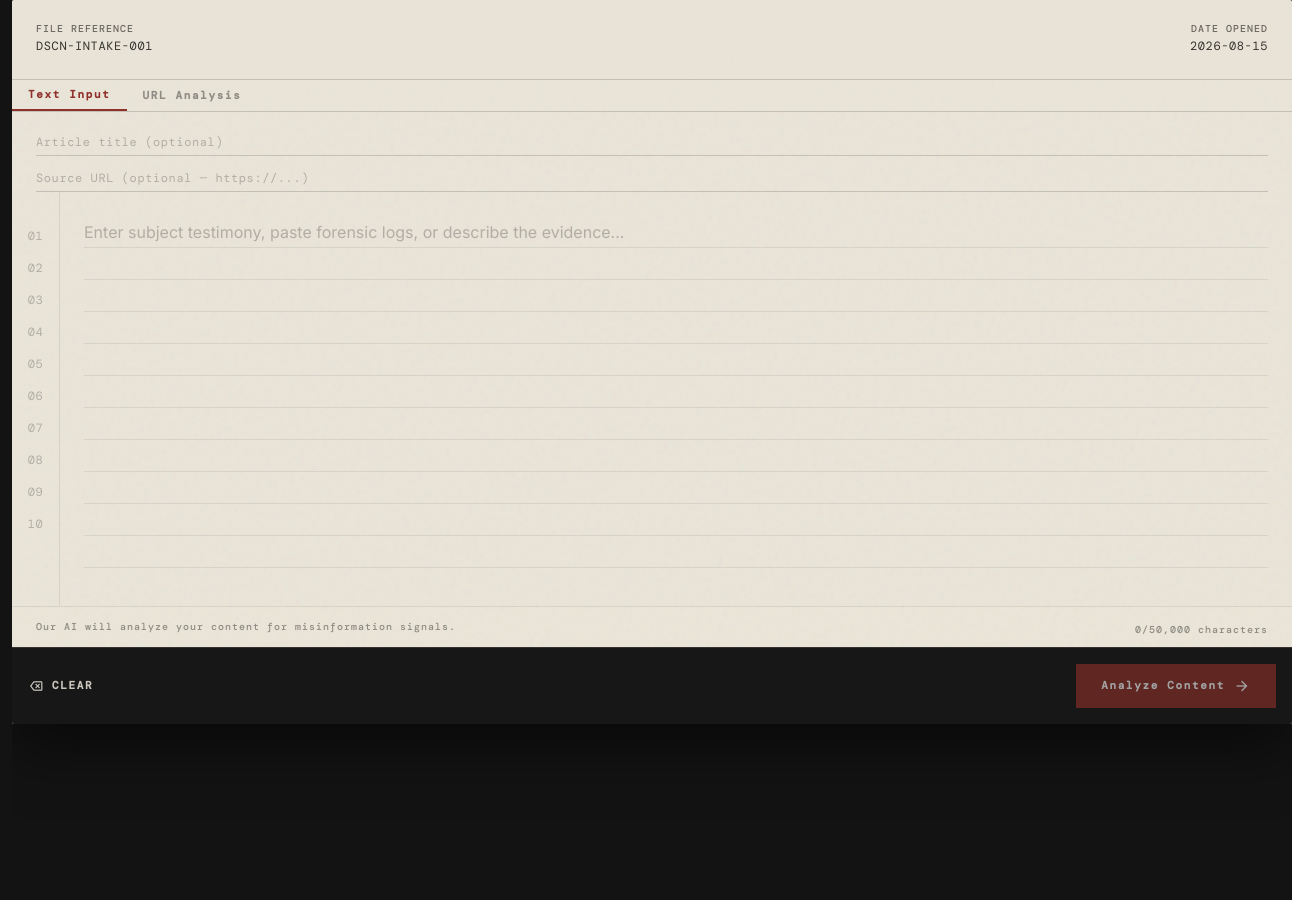
Test case: ArticleInput Component › Form Validation › accepts valid URL format
Type "https://example.com/article" into the field labelled "Source URL (optional — https://...)".
click(652, 179); type("https://example.com/article")  # box [36,166,1268,192]
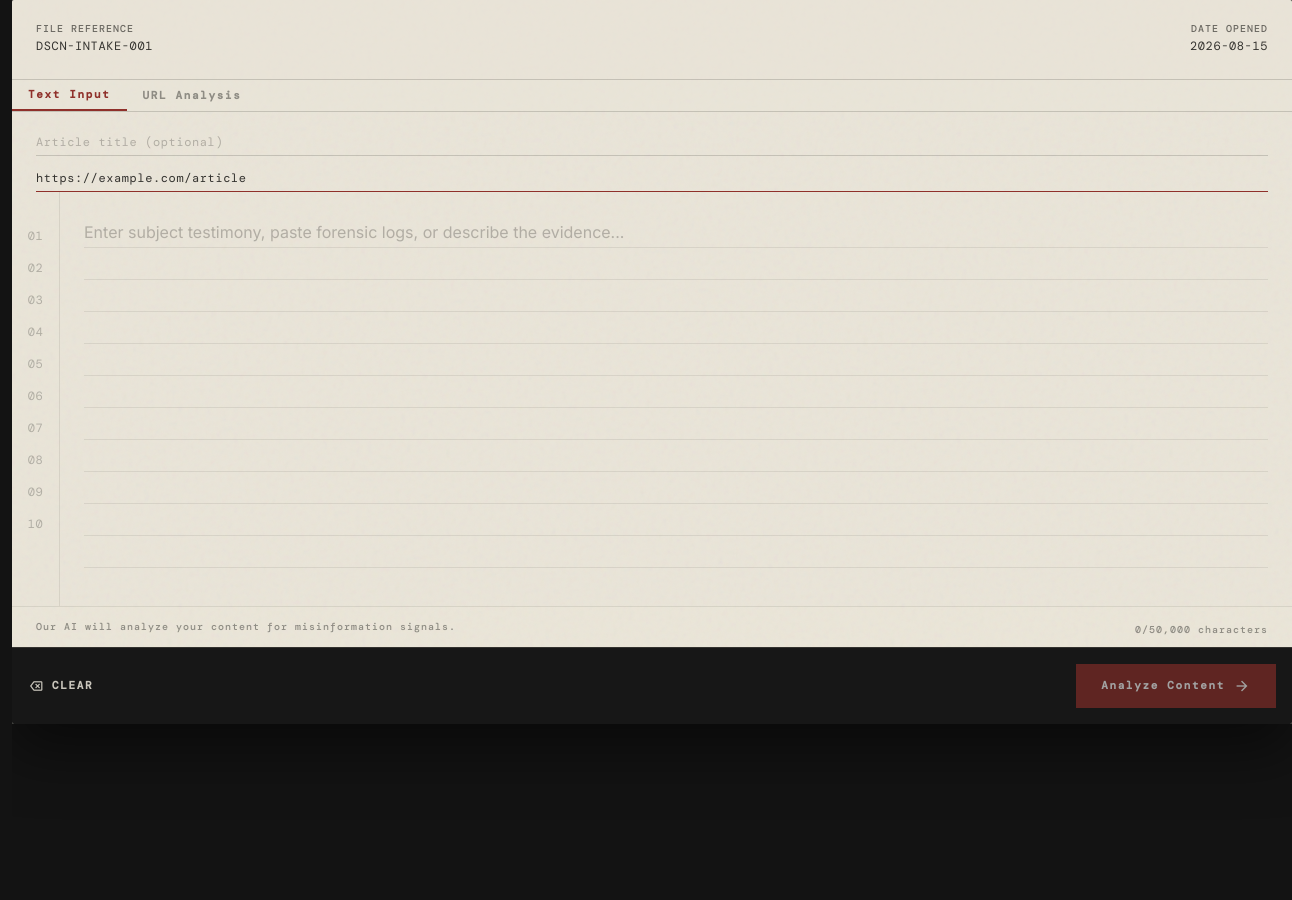
Type "Test content" into the text box named "article content".
click(676, 399); type("Test content")  # box [84,216,1268,582]
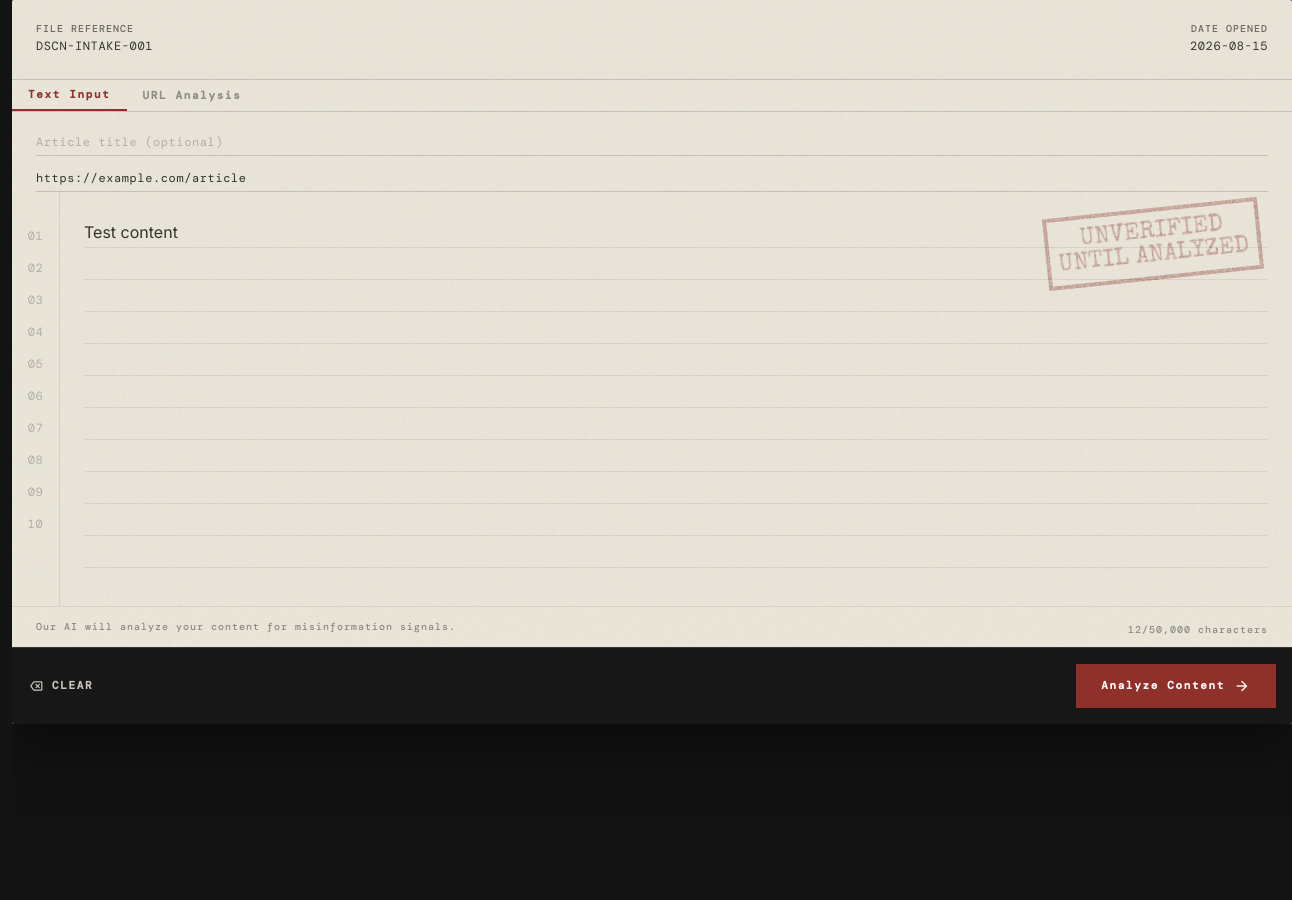
Expected: the button "Analyze Content" is enabled, [1076,664,1276,708]
